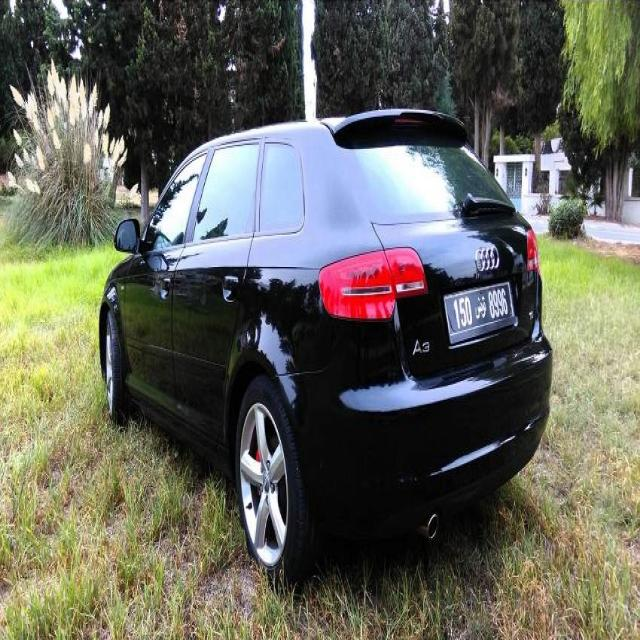licence plate: (445, 284, 512, 333)
